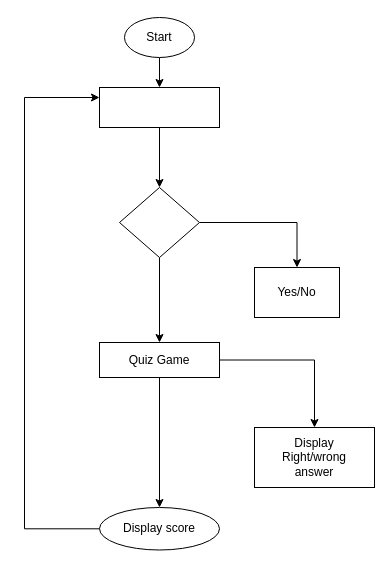
The diagram is 392 pixels wide and 568 high, and some of its shapes have lost their labels. Each missing label, with the box of its shape:
Main Menu: (98, 86, 220, 128)
Start or Quit: (118, 186, 200, 258)
